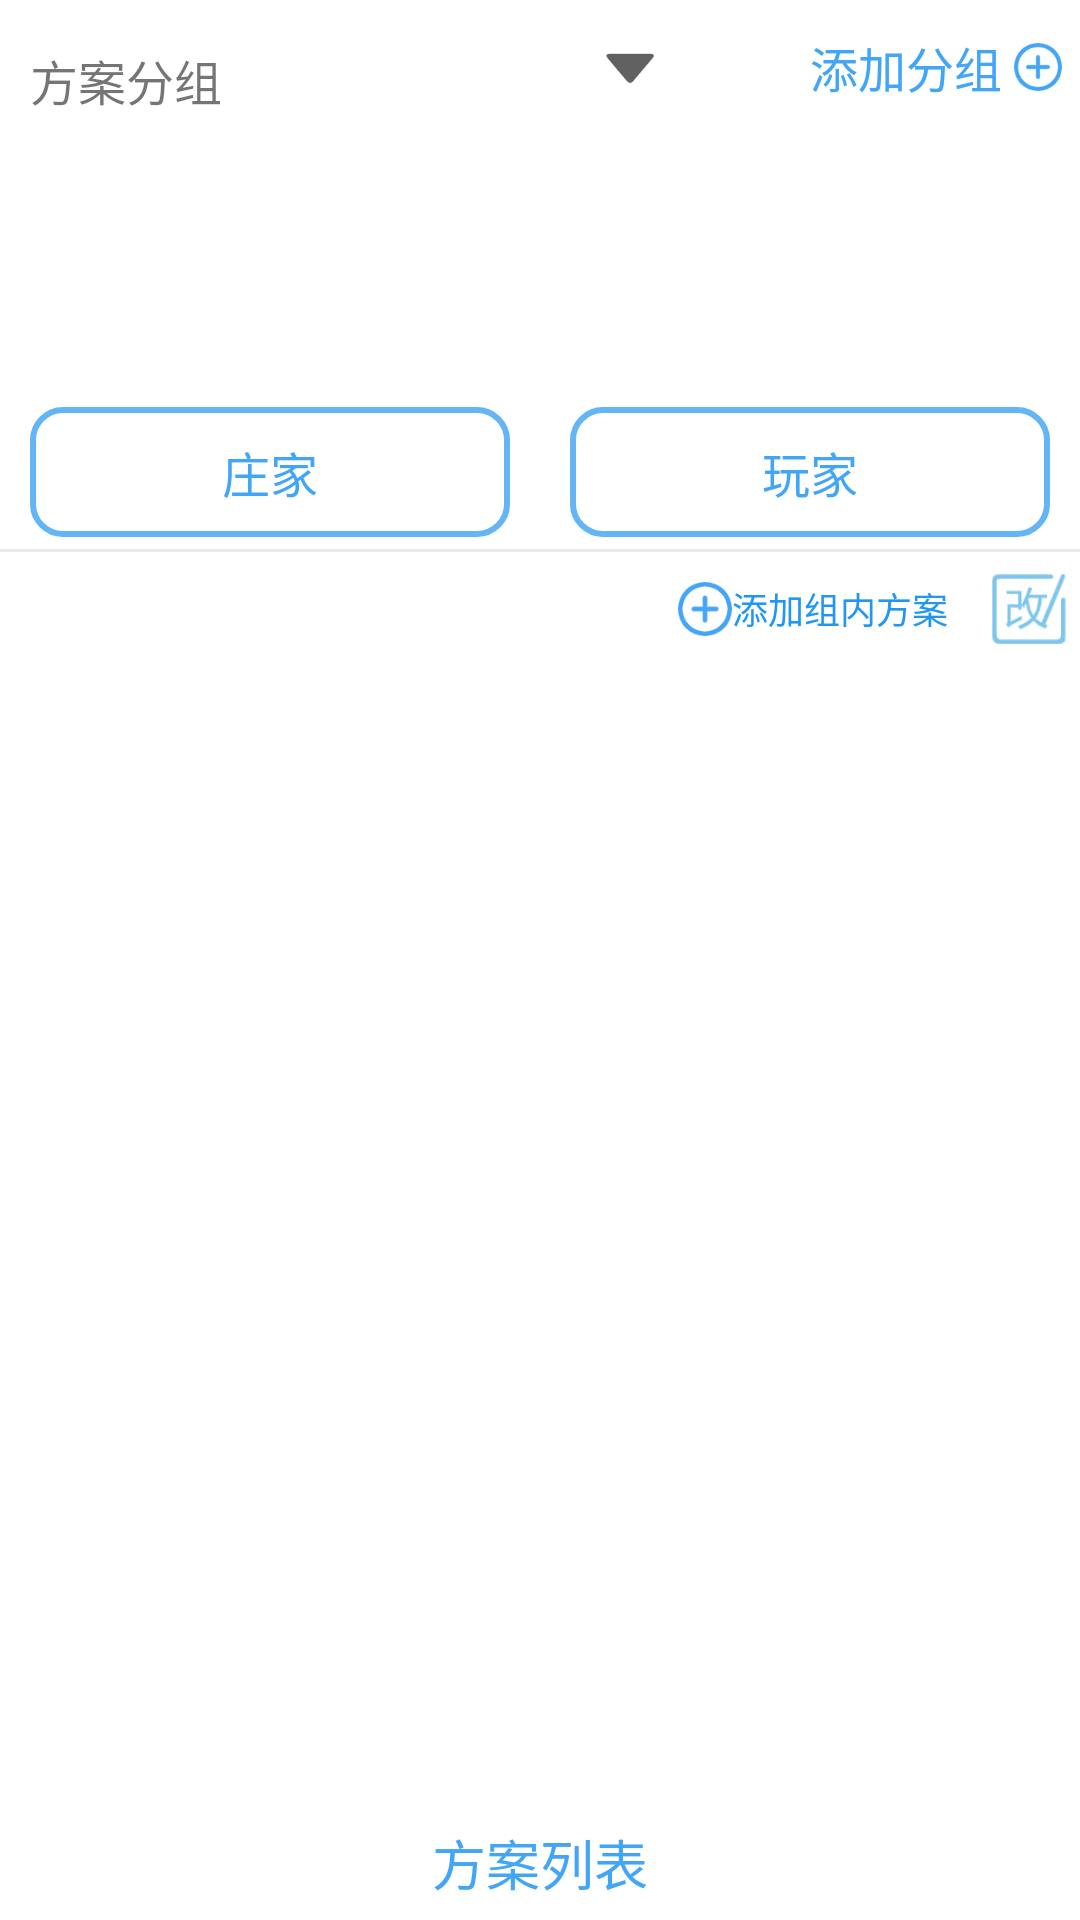

Locate icon controls on the screen. Image size 1080 x 1920, boxes as bbox(x1, y1, x2, y2).
down: bbox(606, 53, 654, 83)
